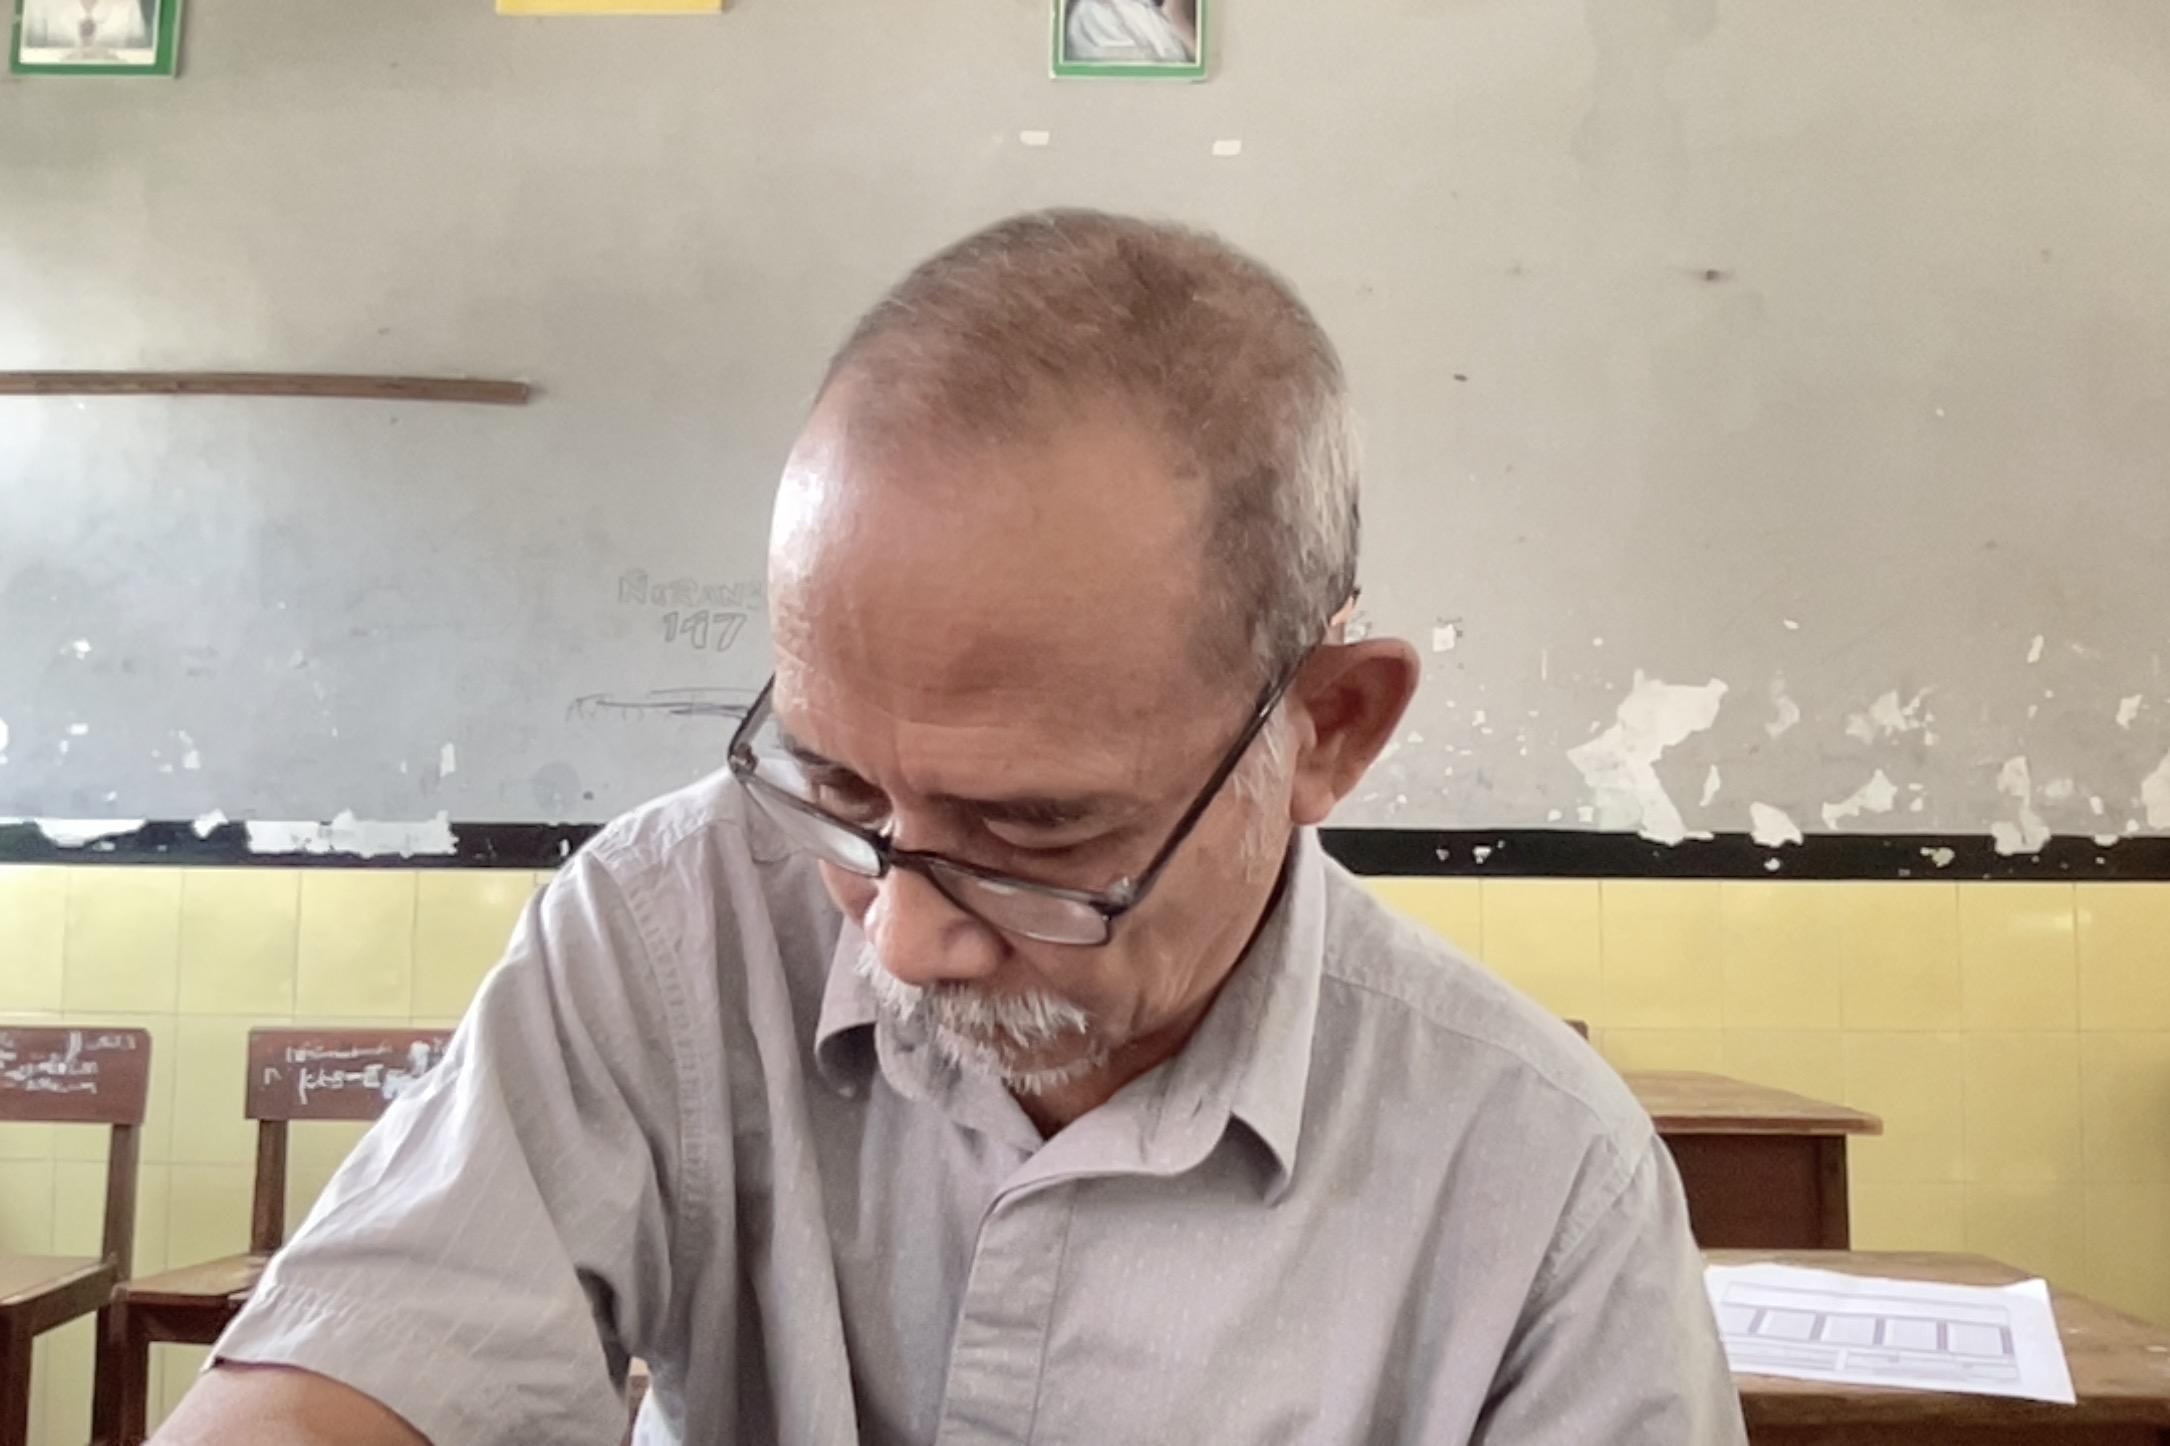good: (124, 181, 1767, 1446)
